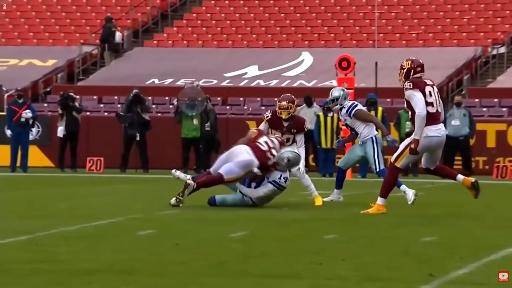Helmet: (399, 58, 424, 84), (276, 147, 301, 171), (276, 94, 297, 119), (328, 87, 349, 109), (270, 134, 286, 151)
Jersey: (259, 110, 307, 166), (403, 78, 445, 137), (239, 171, 289, 205), (259, 110, 306, 146), (340, 101, 378, 141), (247, 130, 284, 168)
Player: (362, 58, 479, 213), (170, 130, 299, 206), (324, 88, 396, 201), (259, 94, 322, 205), (208, 171, 289, 206)
